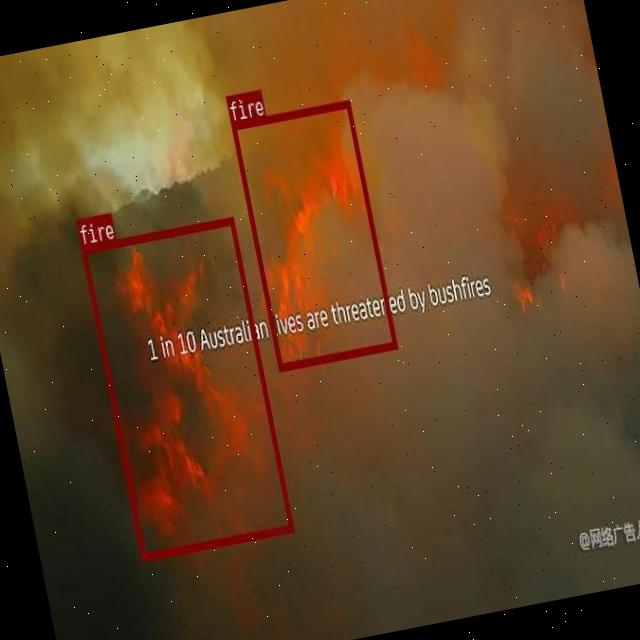fire: (80, 216, 292, 560), (230, 98, 398, 370)
